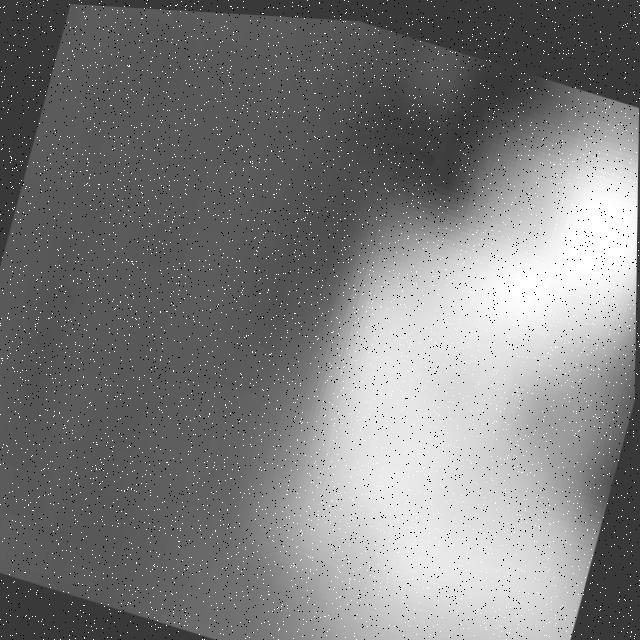person: (245, 65, 640, 640)
